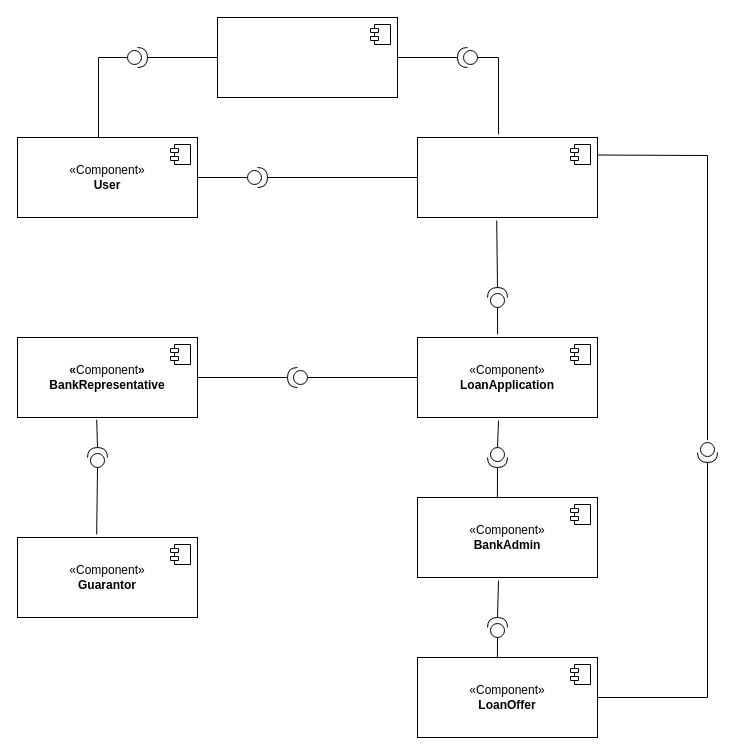
Some shapes in this 735 by 755 pixel diagram are drawn without their labels. The centre of each missing label's shape, as x and y in pixels:
"«Component» Applicant" belongs at (507,177).
"«Component» Notification" belongs at (307,57).
